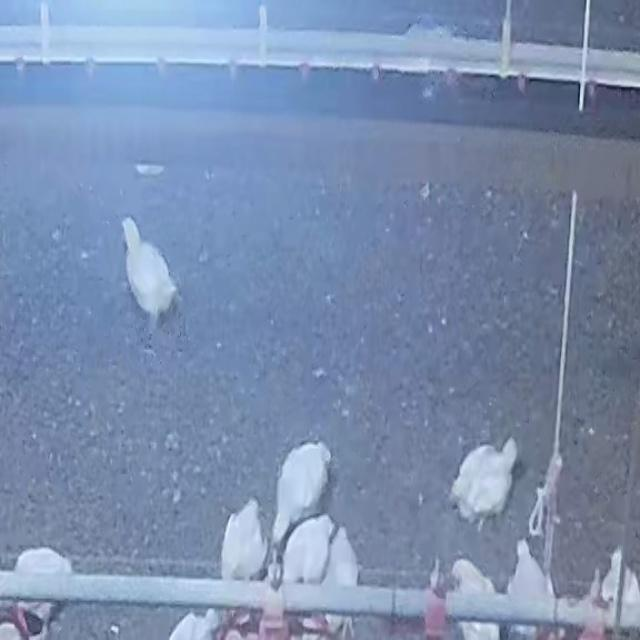chicken: (270, 436, 334, 539), (121, 218, 183, 322), (445, 432, 516, 516), (320, 527, 361, 634), (511, 548, 553, 638), (276, 516, 333, 581), (221, 504, 271, 574), (451, 566, 497, 640)
